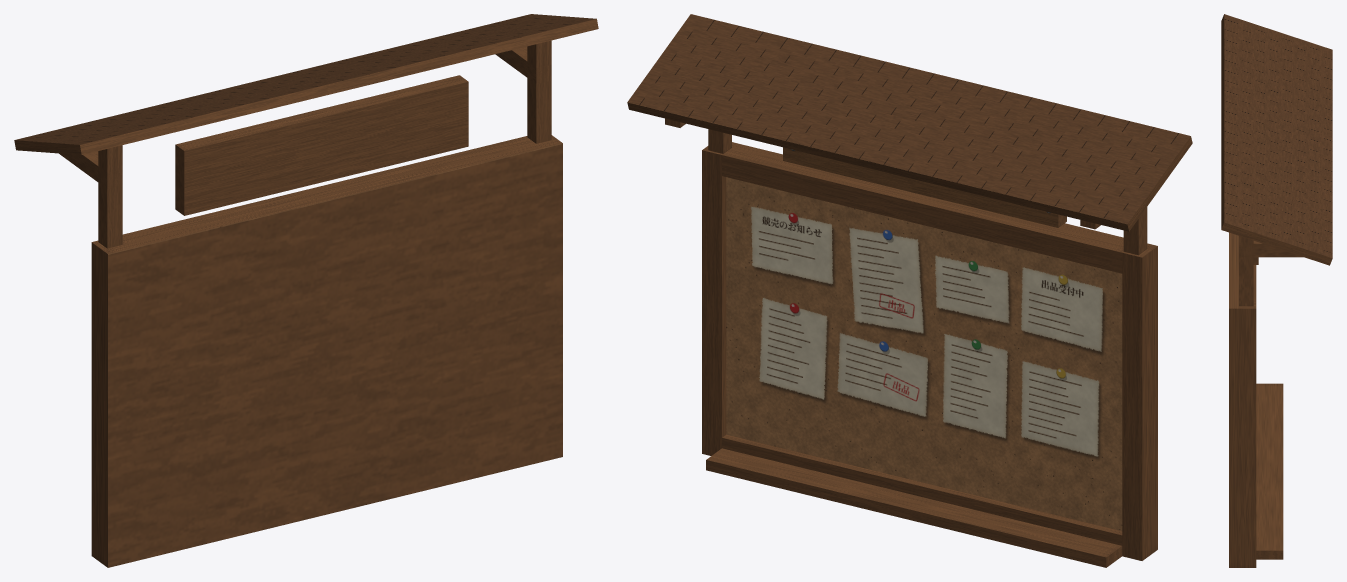
File: GuildBoard.obj
3 renders of one model, left to right at view 1: azimuth 30°, elevation 25°; view 2: azimuth 150°, elevation 25°; view 3: azimuth 270°, elevation 25°, orthographic. The views are drawn at different scales.
Parts seen in each view (by area): view 1: GuildBoard; view 2: GuildBoard; view 3: GuildBoard.
Part boxes in pixels (x1,y1,x2,y2): GuildBoard: (14,14,598,567); GuildBoard: (627,14,1192,567); GuildBoard: (1221,14,1332,567).
Size of the model in its own units: 2 by 1.6 by 0.452.
Materials: 1 (1 with a texture image).
